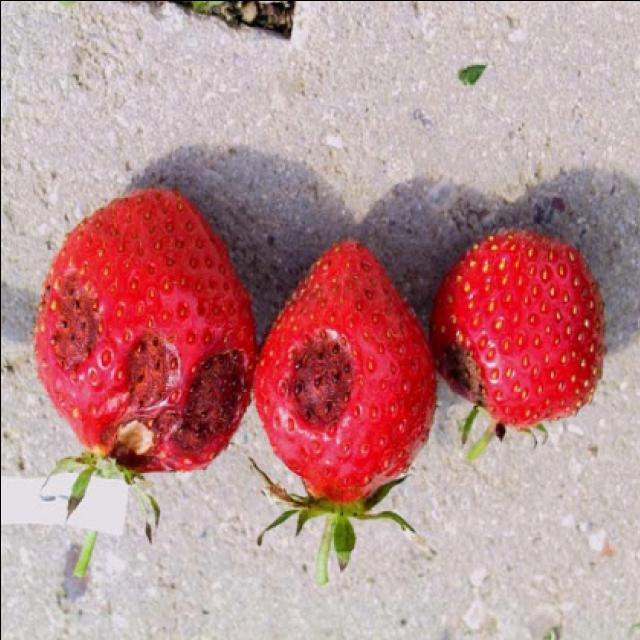Anthracnose Fruit Rot: (168, 346, 249, 439), (286, 317, 354, 419), (426, 330, 498, 412), (48, 260, 90, 371), (123, 328, 175, 408), (114, 423, 157, 471)
